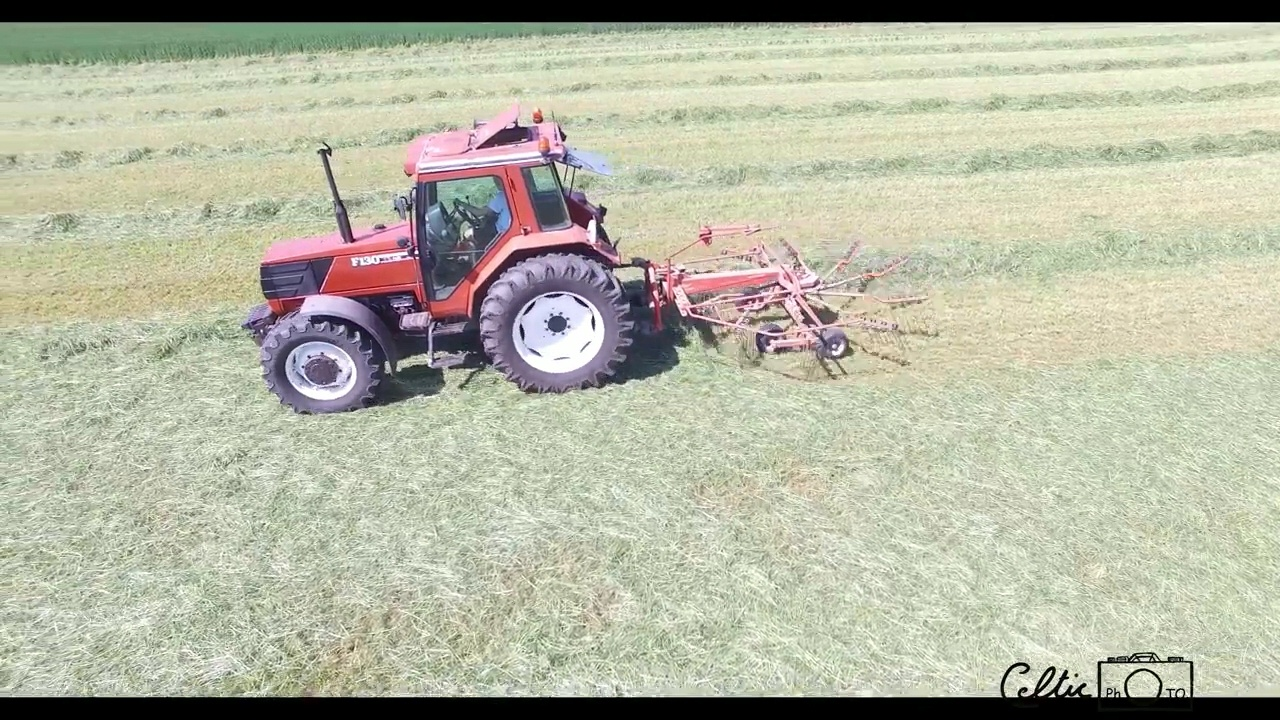traktor: (253, 109, 640, 417)
